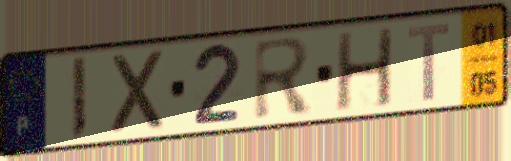2: (190, 40, 245, 130)
H: (332, 24, 395, 114)
I: (68, 54, 90, 144)
R: (251, 34, 317, 124)
T: (404, 20, 453, 105)
X: (109, 46, 169, 139)
